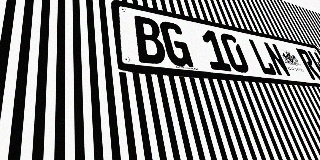0: (218, 32, 251, 73)
1: (199, 28, 232, 71)
B: (132, 15, 168, 65)
G: (159, 20, 194, 68)
L: (247, 38, 278, 76)
N: (262, 41, 292, 77)
R: (295, 48, 320, 80)
W: (307, 50, 320, 81)
